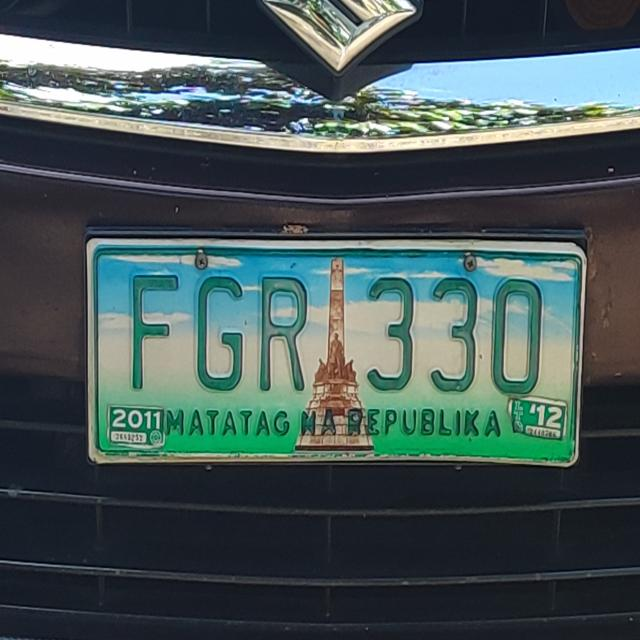plate: (83, 233, 589, 472)
